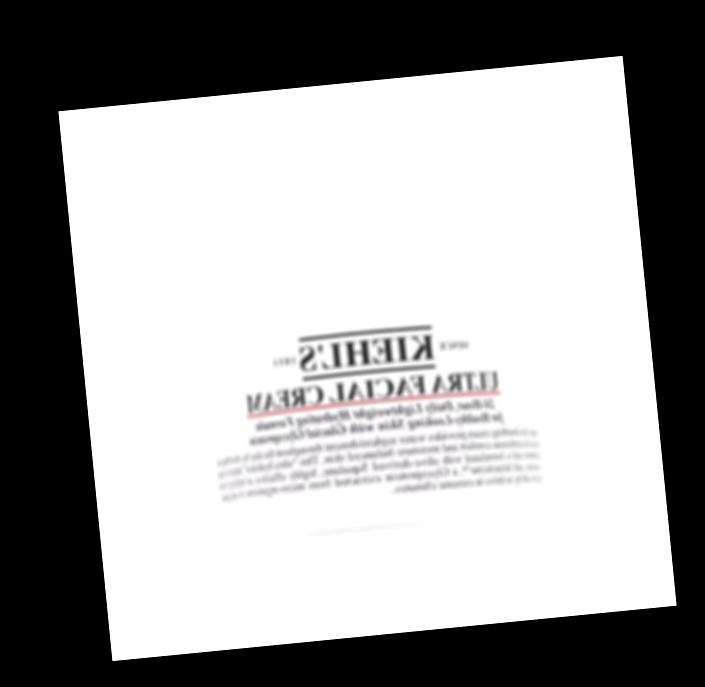cosmetic: (195, 236, 555, 545)
